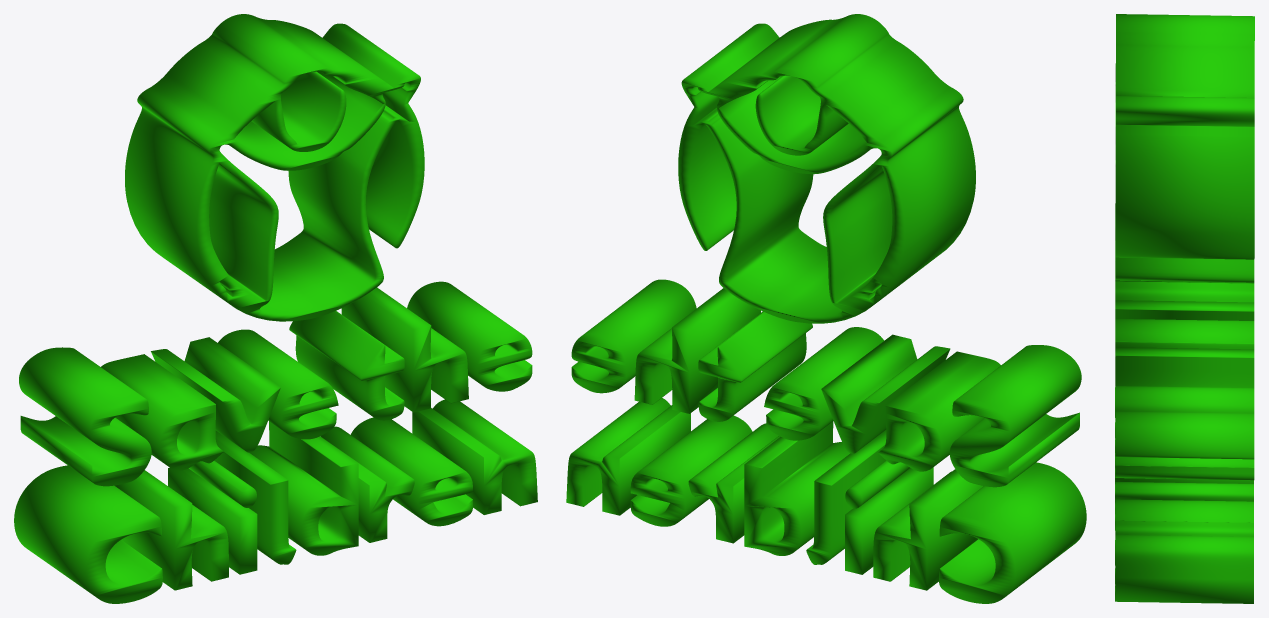
Rendered from main.glb.
3 views of the same model, side by side, from view 1: azimuth 30°, elevation 25°; view 2: azimuth 150°, elevation 25°; view 3: azimuth 270°, elevation 25° (orthographic). The views are drawn at different scales.
Visible parts, largest first — view 1: Curve, Curve.008, Curve.001, Curve.010, Curve.016, Curve.002, Curve.004, Curve.003, Curve.011, Curve.007, Curve.005, Curve.015 (+5 smaller); view 2: Curve, Curve.008, Curve.001, Curve.010, Curve.016, Curve.004, Curve.002, Curve.007, Curve.003, Curve.005, Curve.011, Curve.015 (+5 smaller); view 3: Curve, Curve.016, Curve.007, Curve.002, Curve.005, Curve.006, Curve.014, Curve.015, Curve.003, Curve.004.
Part boxes in pixels (x1,y1,x2,y2): Curve: (125,14,424,321); Curve.008: (14,465,162,603); Curve.001: (19,347,151,486); Curve.010: (249,421,358,555); Curve.016: (412,399,537,514); Curve.002: (341,287,468,412); Curve.004: (101,354,223,470); Curve.003: (289,311,404,420); Curve.011: (115,470,228,590); Curve.007: (407,281,532,391); Curve.005: (151,337,280,452); Curve.015: (350,417,472,526); Curve: (678,14,975,323); Curve.008: (939,462,1086,603); Curve.001: (949,345,1081,487); Curve.010: (744,421,850,555); Curve.016: (566,398,690,515); Curve.004: (878,351,1000,471); Curve.002: (634,288,760,413); Curve.007: (571,279,696,393); Curve.003: (698,311,812,421); Curve.005: (821,334,950,453); Curve.011: (873,469,983,590); Curve.015: (630,415,752,526); Curve: (1115,14,1254,282); Curve.016: (1115,520,1253,603); Curve.007: (1115,411,1254,480); Curve.002: (1115,347,1254,413); Curve.005: (1115,281,1254,320); Curve.006: (1115,319,1254,343); Curve.014: (1115,478,1253,530); Curve.015: (1115,499,1253,565); Curve.003: (1115,341,1254,349); Curve.004: (1115,261,1254,283).
Bounding box in the file's own units: 3.15 × 3.3 × 0.8702.
